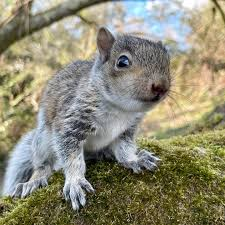squirrel: (5, 28, 173, 207)
